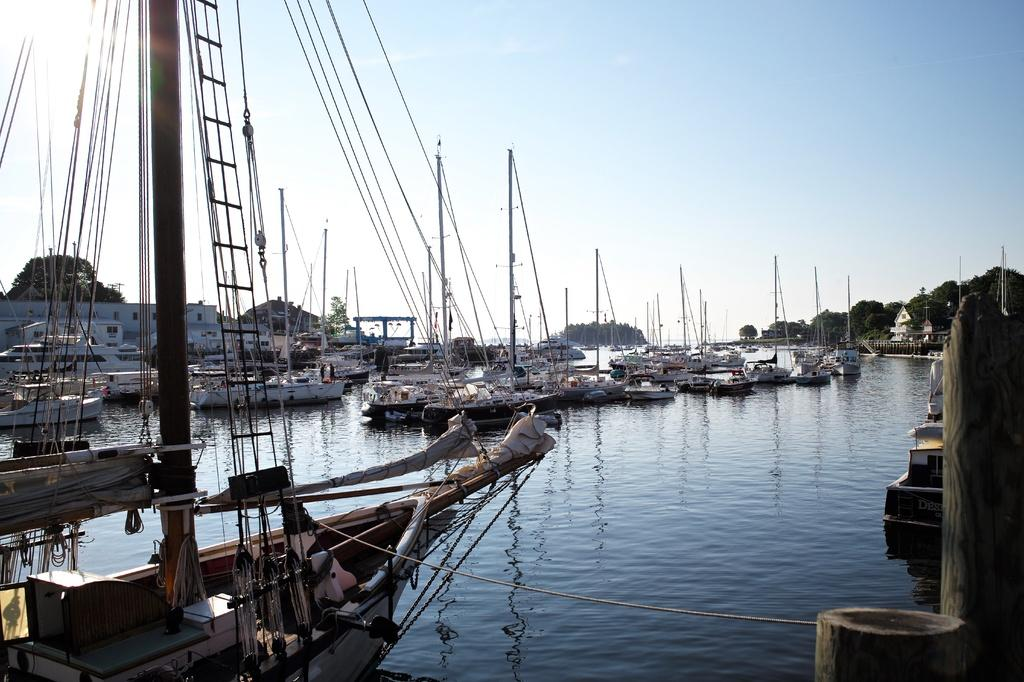PassengerShip: (0, 322, 160, 401), (522, 333, 592, 365)
